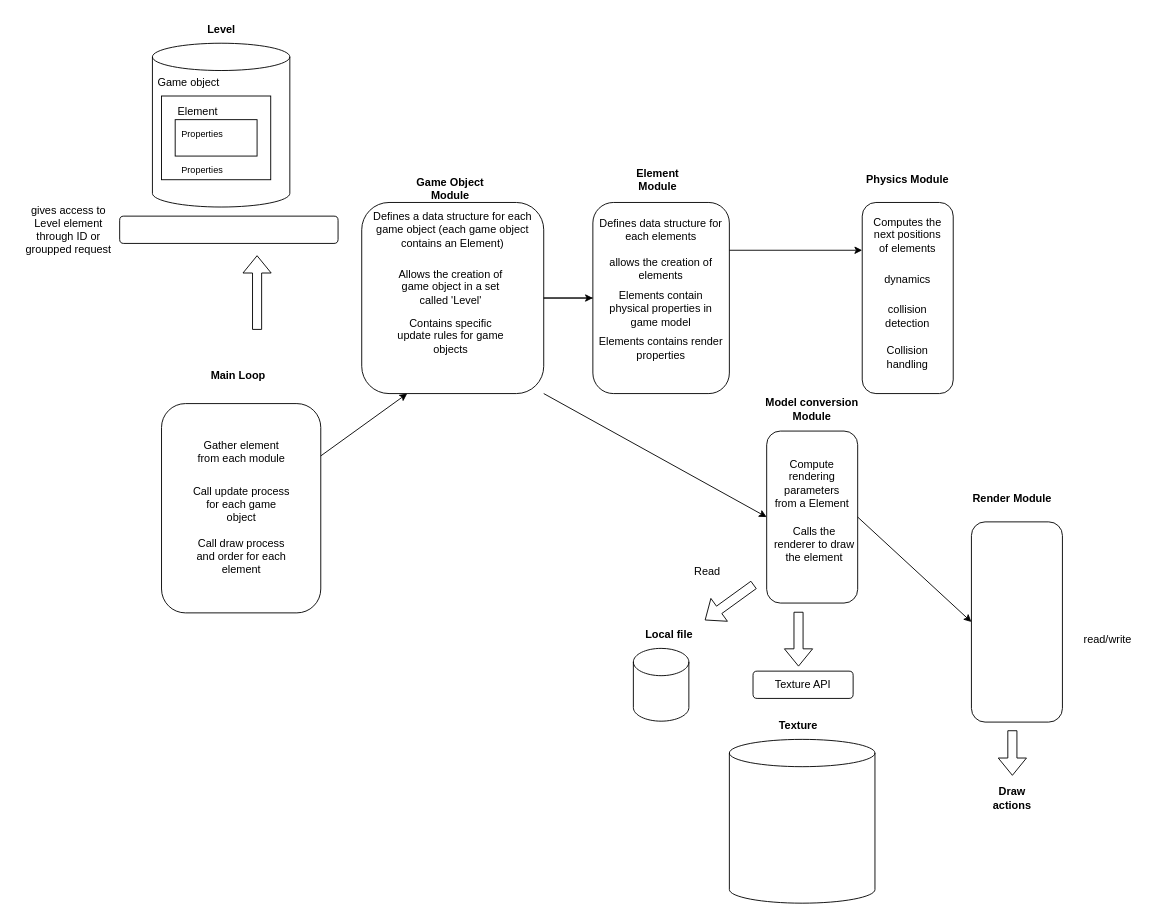
Some shapes in this 1150 by 919 pixel diagram are drawn without their labels. The box of each missing label's shape, as (x1, y1, x2, y2) in pixels:
level API: (119, 215, 338, 243)
renders shapes contains animations contains particule effects: (971, 521, 1062, 722)
